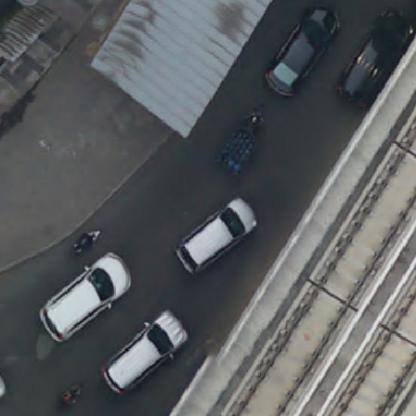car: (35, 253, 134, 341), (342, 3, 413, 106), (102, 311, 189, 395), (265, 5, 339, 99), (169, 200, 256, 268)
motorcycle: (238, 99, 270, 141), (52, 380, 86, 409), (69, 230, 103, 254)
